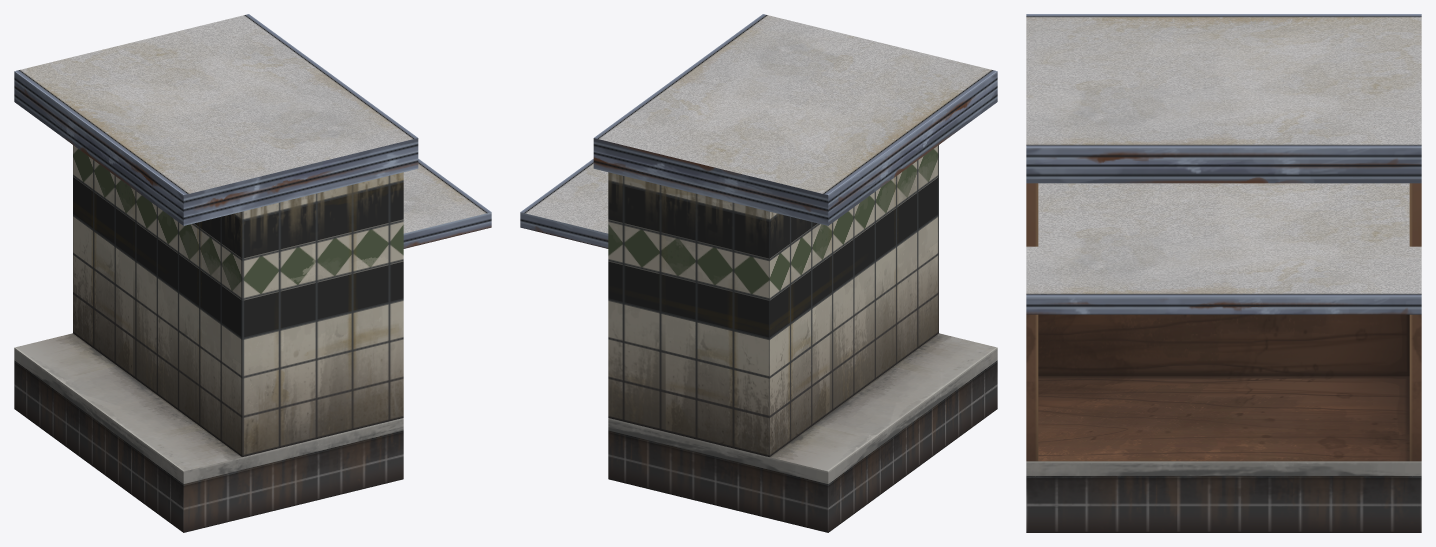
Rendered from diner_counter1m.fbx.
3 views of the same model, side by side, from view 1: azimuth 30°, elevation 25°; view 2: azimuth 150°, elevation 25°; view 3: azimuth 270°, elevation 25° (orthographic). The views are drawn at different scales.
Visible parts, largest first — view 1: diner_counter1m; view 2: diner_counter1m; view 3: diner_counter1m.
Part boxes in pixels (bbox=[...]): diner_counter1m: bbox=[14, 14, 491, 532]; diner_counter1m: bbox=[520, 14, 997, 532]; diner_counter1m: bbox=[1026, 14, 1421, 532].
Bounding box in the file's own units: 105 × 110 × 100.
